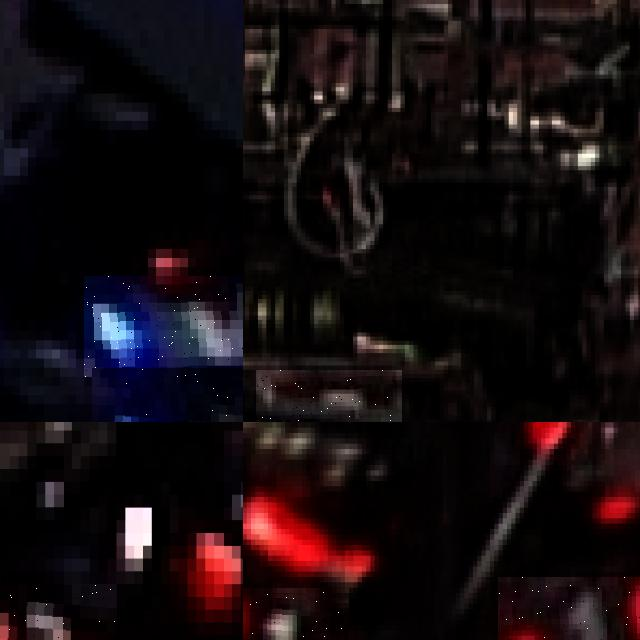B1: (84, 276, 243, 376), (92, 368, 243, 422)
R1: (498, 577, 640, 640), (243, 587, 349, 640)
R2: (255, 370, 402, 422)
R3: (0, 584, 116, 640)
